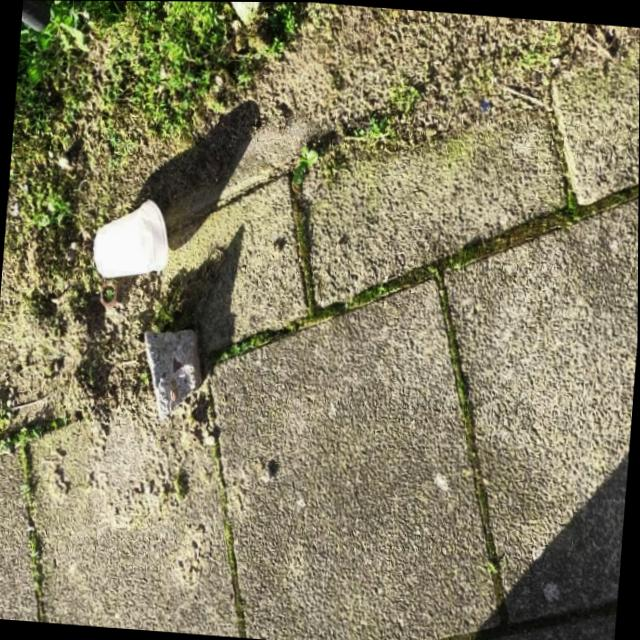Cup: (77, 181, 188, 297)
